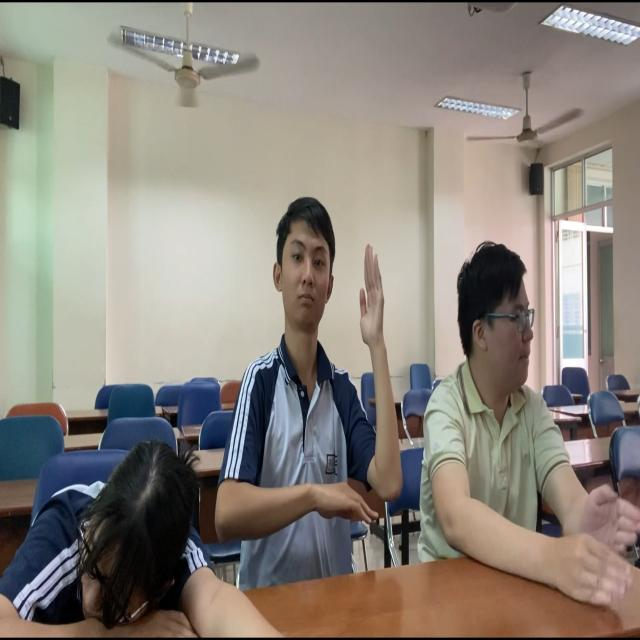raise_hand: (224, 191, 407, 599)
sleep: (1, 424, 224, 640)
